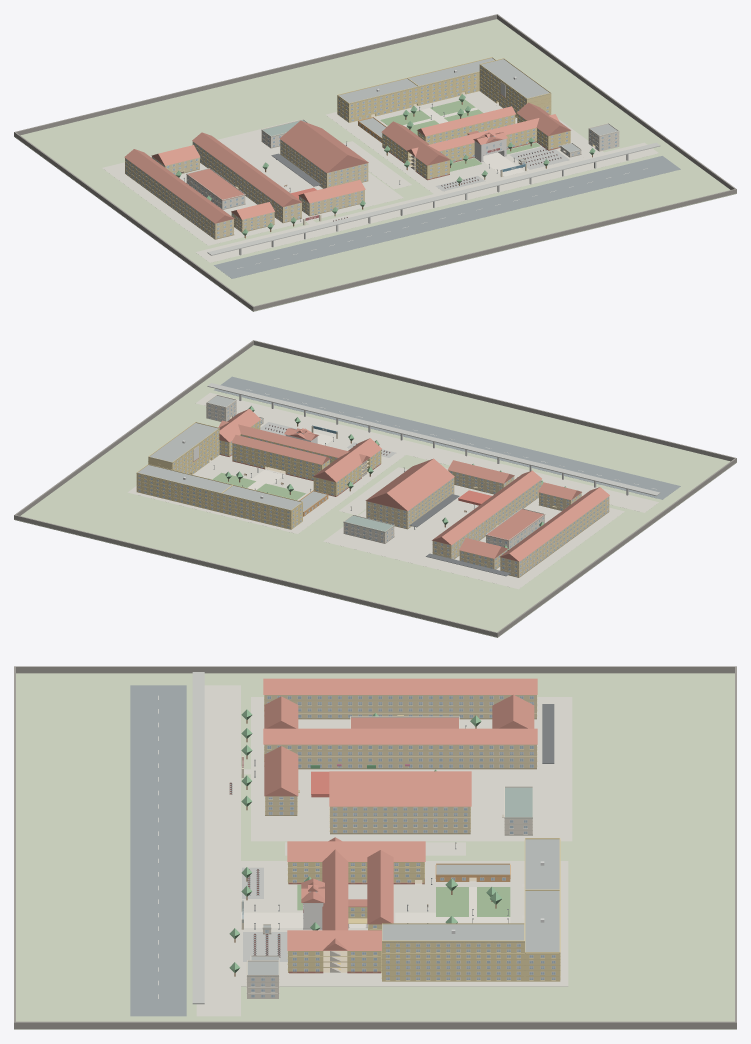
Rendered from campus_blockout.glb.
The picture shows the model from 3 angles, top to bottom: view 1: azimuth 30°, elevation 25°; view 2: azimuth 150°, elevation 25°; view 3: azimuth 270°, elevation 25°; orthographic projection. The views are drawn at different scales.
Parts seen in each view (by area): view 1: ground, nguyen_trai_approx, ussh_yard, sidewalk, hus_yard, BOUNDARY_S, BOUNDARY_N, railway_deck, USSH_E__F0__A85343, USSH_B__F0__A85343, USSH_C__F0__A85343, USSH_B__F0__E7CB89 (+19 smaller); view 2: ground, nguyen_trai_approx, ussh_yard, sidewalk, hus_yard, BOUNDARY_N, BOUNDARY_S, railway_deck, USSH_E__F0__A85343, USSH_B__F0__A85343, USSH_C__F0__A85343, USSH_B__F0__E7CB89 (+18 smaller); view 3: ground, nguyen_trai_approx, ussh_yard, sidewalk, hus_yard, BOUNDARY_E, BOUNDARY_W, USSH_E__F0__A85343, USSH_C__F0__E7CB89, USSH_B__F0__A85343, USSH_C__F0__A85343, railway_deck (+38 smaller).
Boxes of the visible parts, <box> form: ground: <box>14,19,736,311</box>; nguyen_trai_approx: <box>214,156,680,278</box>; ussh_yard: <box>102,120,403,245</box>; sidewalk: <box>196,142,658,262</box>; hus_yard: <box>326,91,603,193</box>; BOUNDARY_S: <box>252,189,736,311</box>; BOUNDARY_N: <box>14,14,497,136</box>; railway_deck: <box>207,142,660,255</box>; USSH_E__F0__A85343: <box>279,120,368,172</box>; USSH_B__F0__A85343: <box>124,149,234,223</box>; USSH_C__F0__A85343: <box>192,132,302,206</box>; USSH_B__F0__E7CB89: <box>125,158,233,238</box>; ground: <box>14,345,736,637</box>; nguyen_trai_approx: <box>214,376,680,499</box>; ussh_yard: <box>323,467,624,589</box>; sidewalk: <box>195,392,658,512</box>; hus_yard: <box>127,413,405,533</box>; BOUNDARY_N: <box>14,515,498,637</box>; BOUNDARY_S: <box>253,340,736,462</box>; railway_deck: <box>207,383,660,495</box>; USSH_E__F0__A85343: <box>365,458,454,510</box>; USSH_B__F0__A85343: <box>500,487,609,561</box>; USSH_C__F0__A85343: <box>432,470,541,545</box>; USSH_B__F0__E7CB89: <box>500,496,609,576</box>; ground: <box>14,673,736,1029</box>; nguyen_trai_approx: <box>130,685,186,1016</box>; ussh_yard: <box>251,697,572,841</box>; sidewalk: <box>196,685,240,1016</box>; hus_yard: <box>241,861,568,986</box>; BOUNDARY_E: <box>16,1021,734,1028</box>; BOUNDARY_W: <box>16,666,734,673</box>; USSH_E__F0__A85343: <box>329,771,471,806</box>; USSH_C__F0__E7CB89: <box>264,744,536,767</box>; USSH_B__F0__A85343: <box>263,678,537,694</box>; USSH_C__F0__A85343: <box>263,728,537,744</box>; railway_deck: <box>192,672,204,1004</box>.
Bounding box in the file's own units: 546 × 34.64 × 468.
